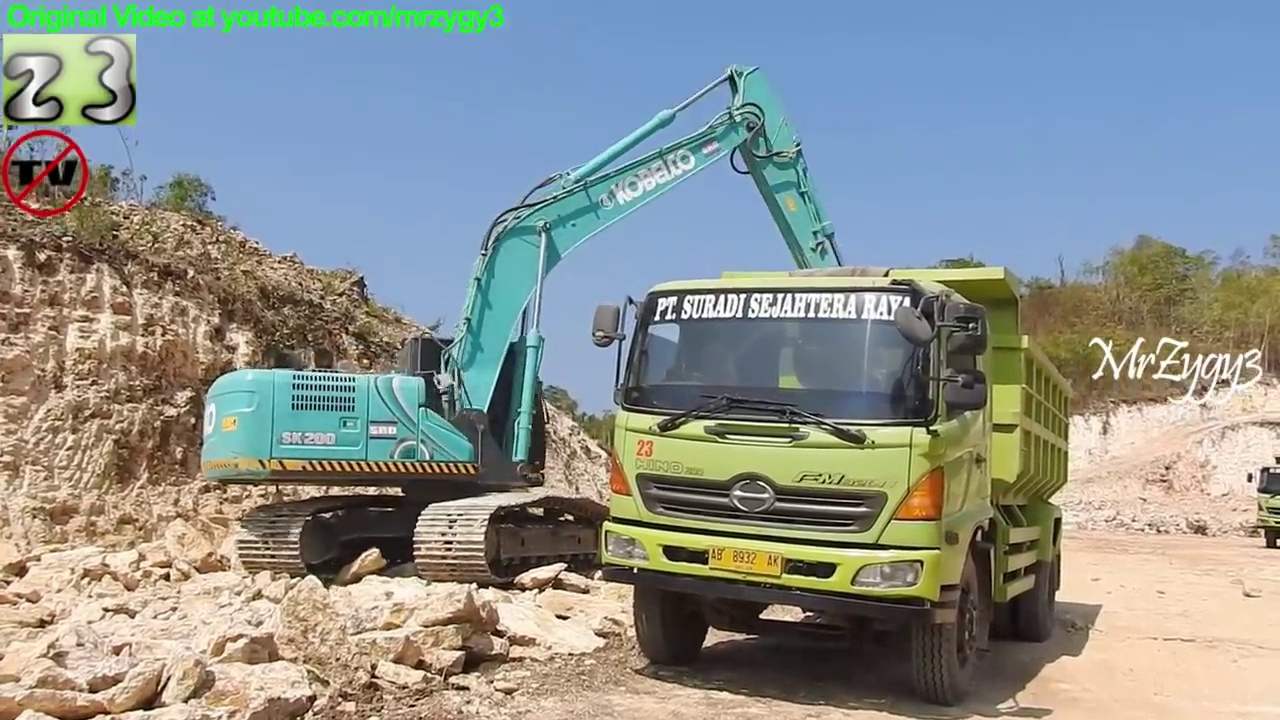excavator: (196, 57, 902, 595)
truck: (589, 258, 1084, 707), (1243, 458, 1280, 547)
